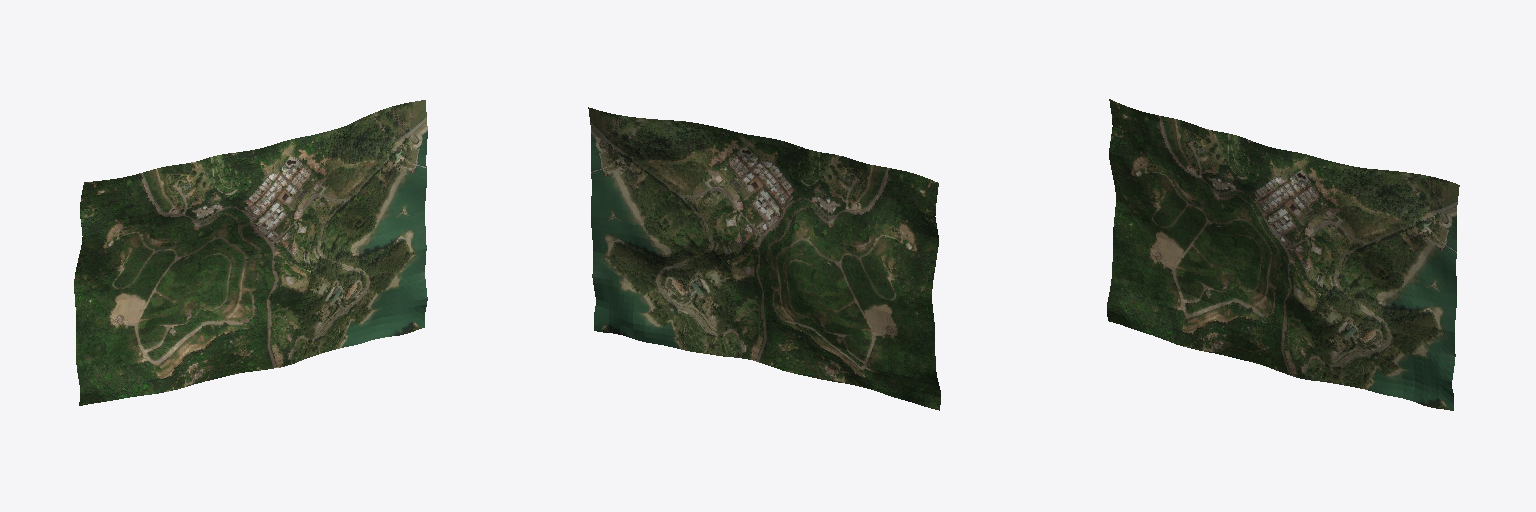
3 views of the same model, side by side, from view 1: azimuth 30°, elevation 25°; view 2: azimuth 150°, elevation 25°; view 3: azimuth 330°, elevation 25° (orthographic).
Parts seen in each view (by area): view 1: Group_Global; view 2: Group_Global; view 3: Group_Global.
Boxes of the visible parts, <box> form: Group_Global: <box>74,100,427,405</box>; Group_Global: <box>588,107,940,410</box>; Group_Global: <box>1107,99,1459,410</box>.
Bounding box in the file's own units: 1000 × 630 × 90.37.
Materials: 2 (2 with a texture image).